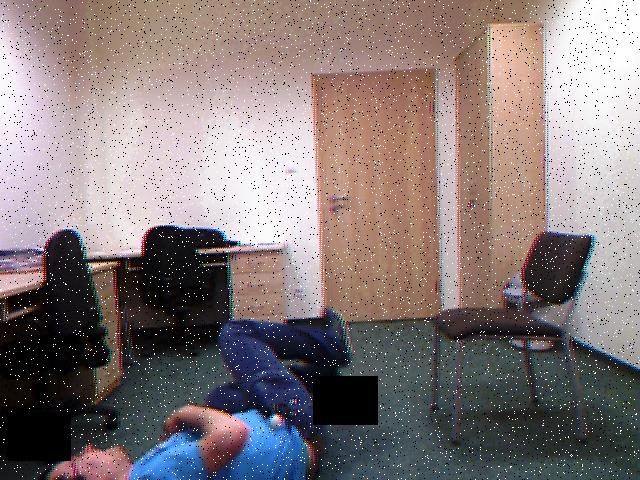fall: (31, 297, 377, 480)
